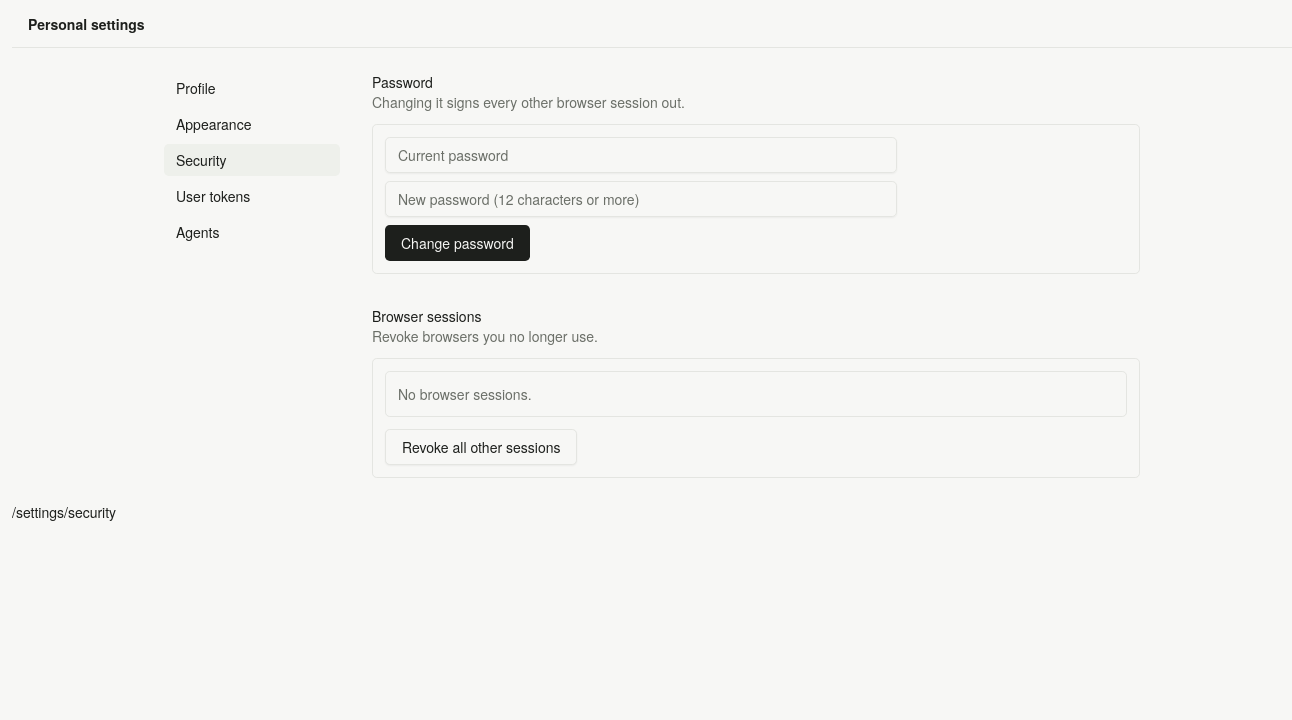
Test: moves between areas from an area, without growing the address
What coordinates should you click on to do the following:
click the link "User tokens"
I would click on:
 (213, 196)
Its box is [176,186,250,206].
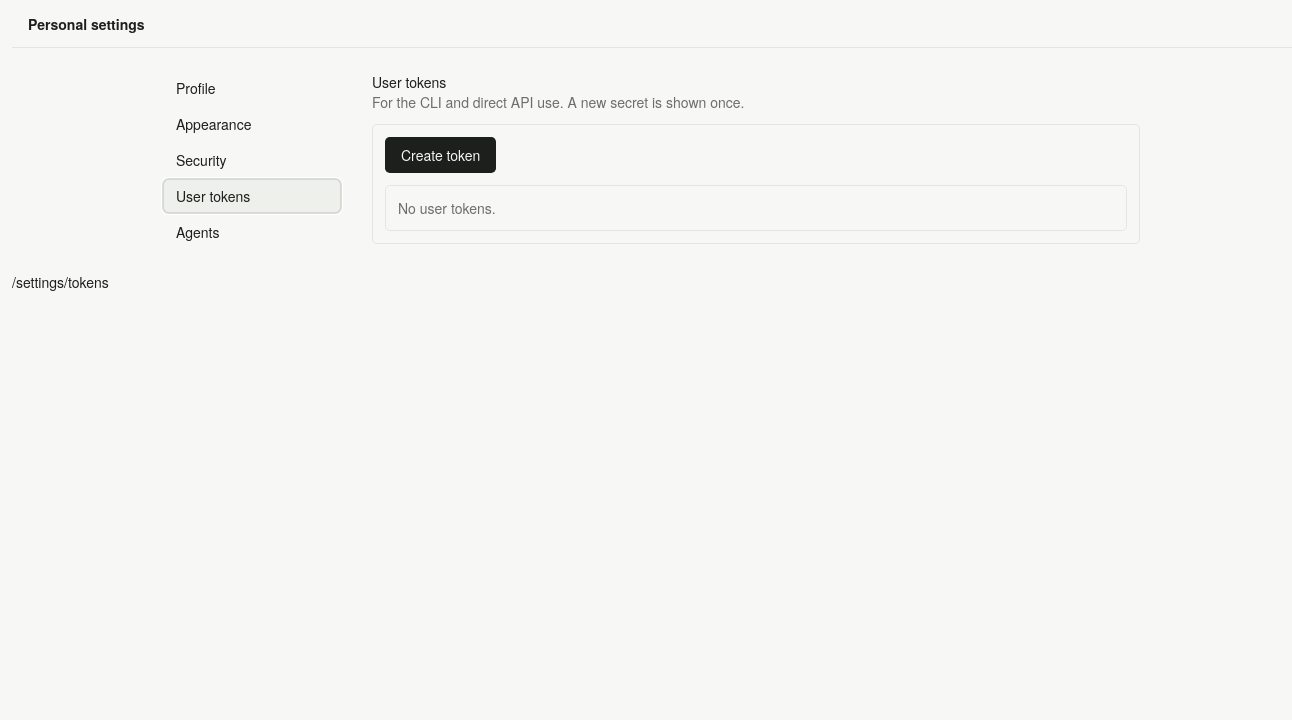
expect the text with test id "at" reads "/settings/tokens": met, box [12,272,109,292]
expect the heading "User tokens" is shown: met, box [372,72,446,92]
What coordinates should you click on to do the following:
click the link "Profile"
I would click on:
 (196, 88)
Its box is [176,78,216,98].
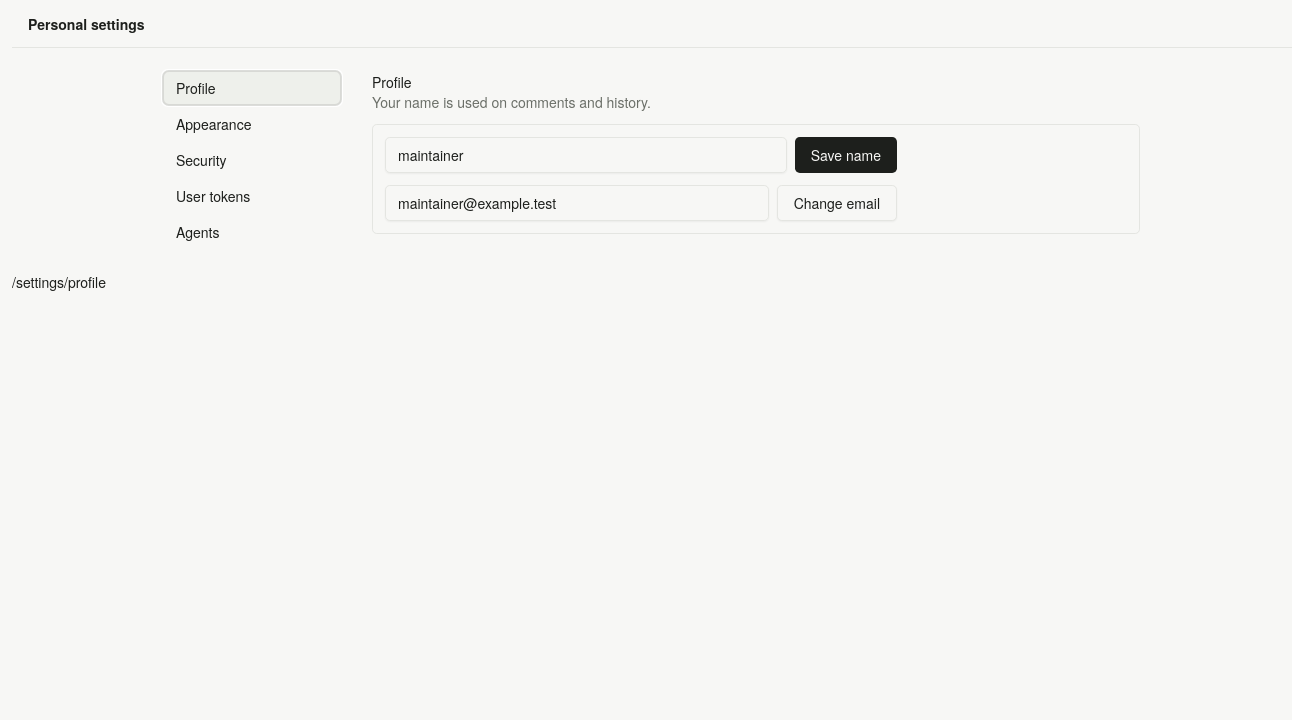
expect the text with test id "at" reads "/settings/profile": met, box [12,272,106,292]
expect the heading "Profile" is shown: met, box [372,72,412,92]
